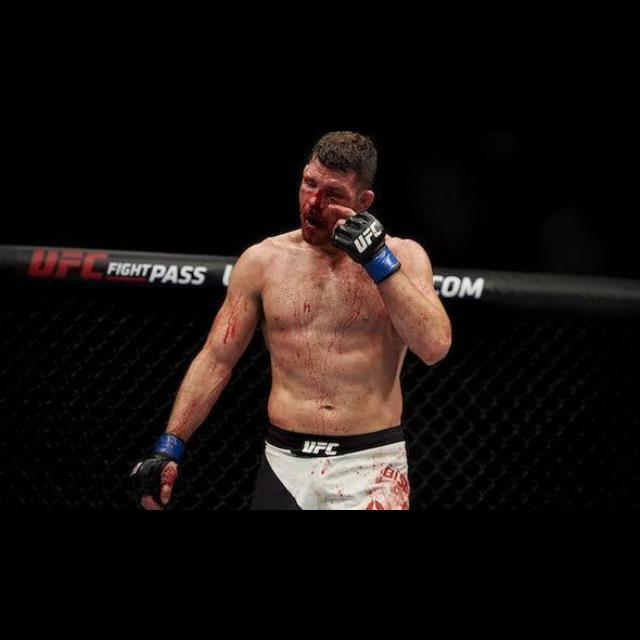blood: (166, 157, 452, 440), (296, 455, 410, 510)
